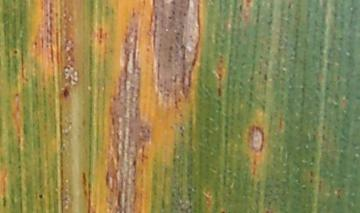tarspot: (60, 85, 72, 101), (11, 48, 21, 57), (36, 192, 45, 201)
